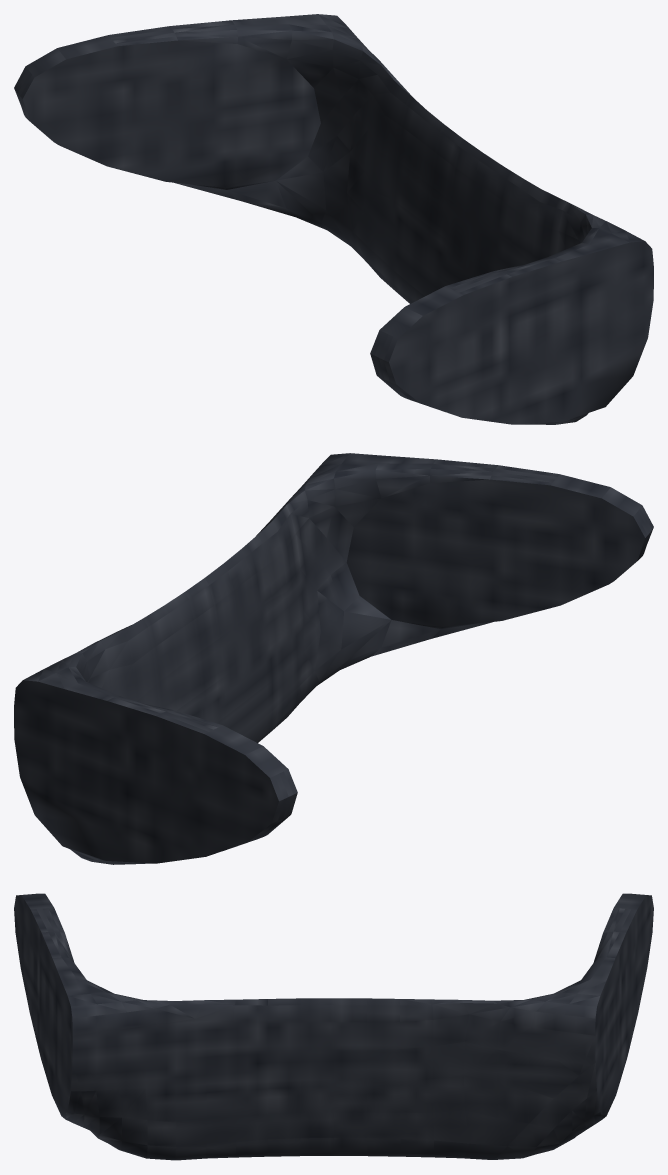
The model's file is original-14.obj.
3 views of the same model, one above another, from view 1: azimuth 30°, elevation 25°; view 2: azimuth 150°, elevation 25°; view 3: azimuth 270°, elevation 25° (orthographic). The views are drawn at different scales.
Parts seen in each view (by area): view 1: group_4/ID5669#ID5669; view 2: group_4/ID5669#ID5669; view 3: group_4/ID5669#ID5669.
Part boxes in pixels (left/top/right/bottom): group_4/ID5669#ID5669: left=14, top=14, right=653, bottom=424; group_4/ID5669#ID5669: left=14, top=453, right=653, bottom=864; group_4/ID5669#ID5669: left=14, top=893, right=653, bottom=1160.
Size of the model in its own units: 0.2022 by 0.1327 by 0.4311.
